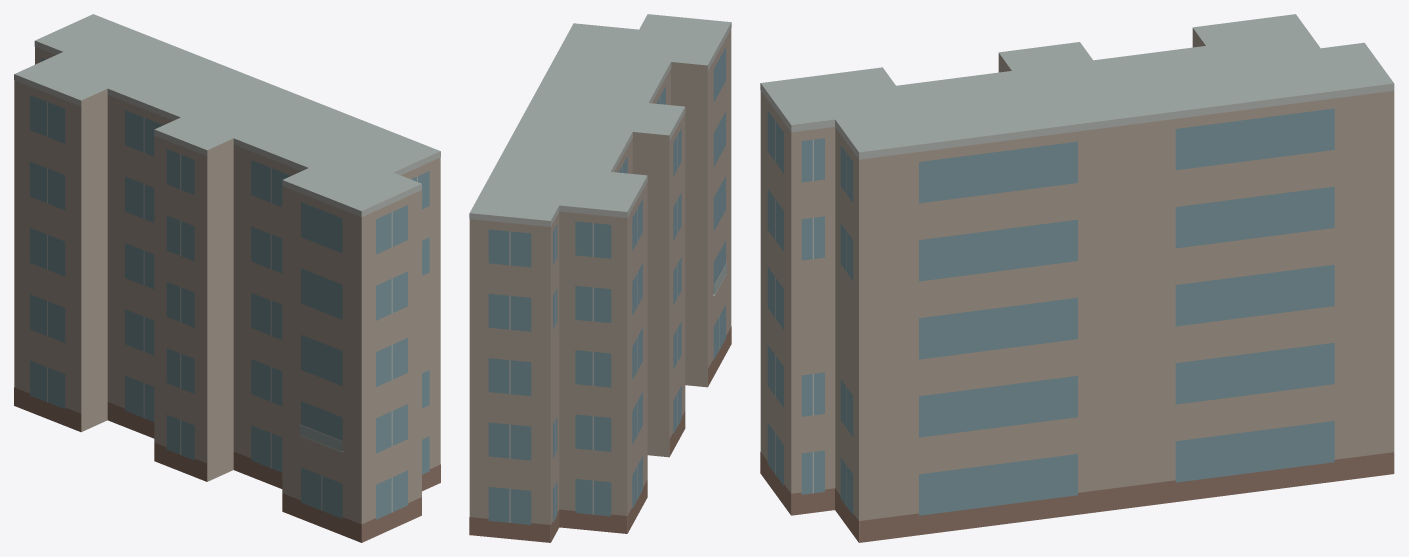
File: survey-upis-32622184.glb
3 renders of one model, left to right at view 1: azimuth 30°, elevation 25°; view 2: azimuth 150°, elevation 25°; view 3: azimuth 270°, elevation 25°, orthographic. The views are drawn at different scales.
Visible parts, largest first — view 1: survey-upis-32622184.tmp; view 2: survey-upis-32622184.tmp; view 3: survey-upis-32622184.tmp.
Boxes of the visible parts, <box> form: survey-upis-32622184.tmp: <box>14,14,440,542</box>; survey-upis-32622184.tmp: <box>469,14,731,542</box>; survey-upis-32622184.tmp: <box>760,14,1394,542</box>.
Bounding box in the file's own units: 10.05 × 13.2 × 19.43.
